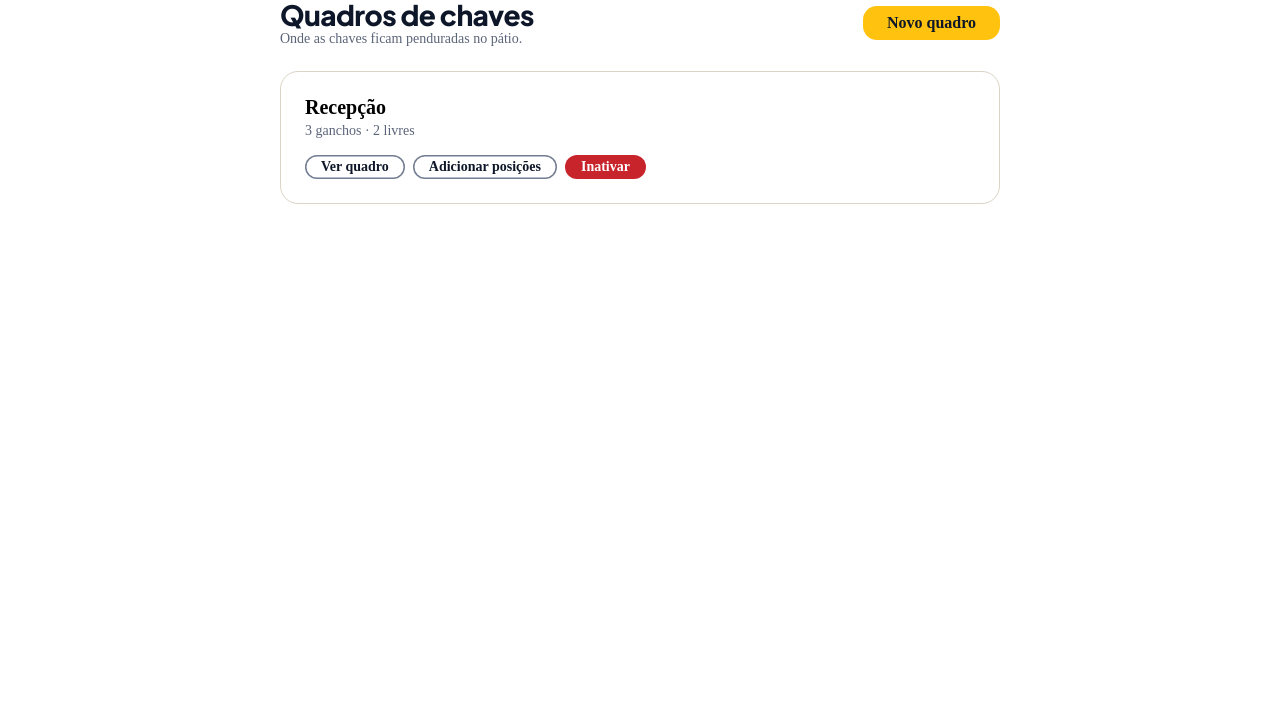
Scenario: QuadrosLista › exclui um gancho livre depois de confirmar e não deixa tocar no ocupado
Click the button "Ver quadro" at (355, 167), box [305,155,405,179]
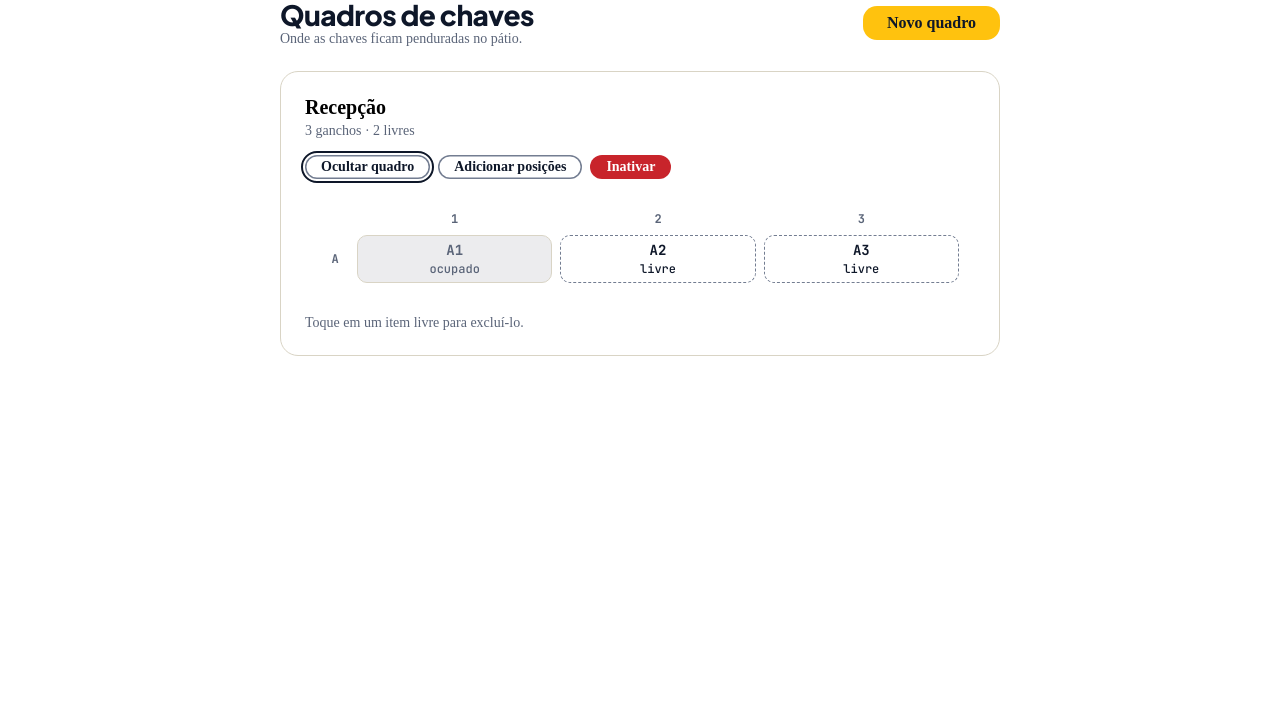
Click the button with aria-label "A3, livre" at (861, 259), box [764,235,959,283]
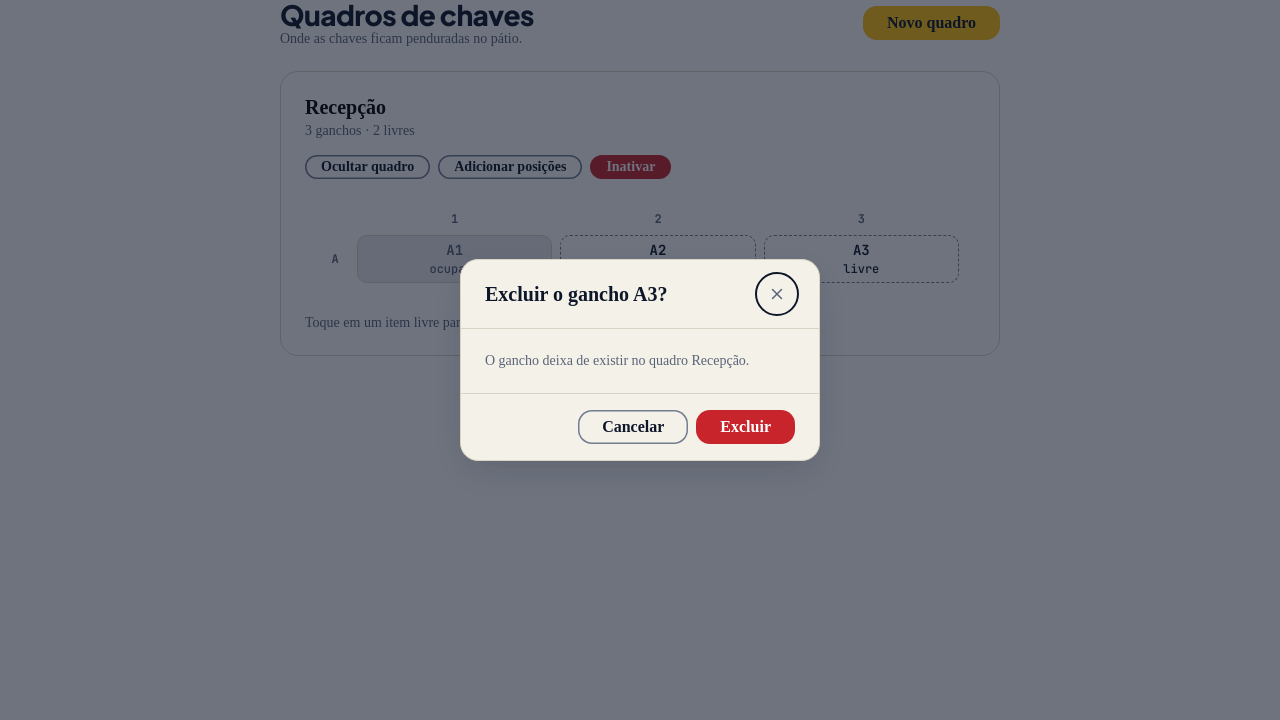
expect the heading "Excluir o gancho A3?" is shown: met, box [485,282,667,306]
Click the button "Excluir" at (746, 427), box [696,410,795,444]
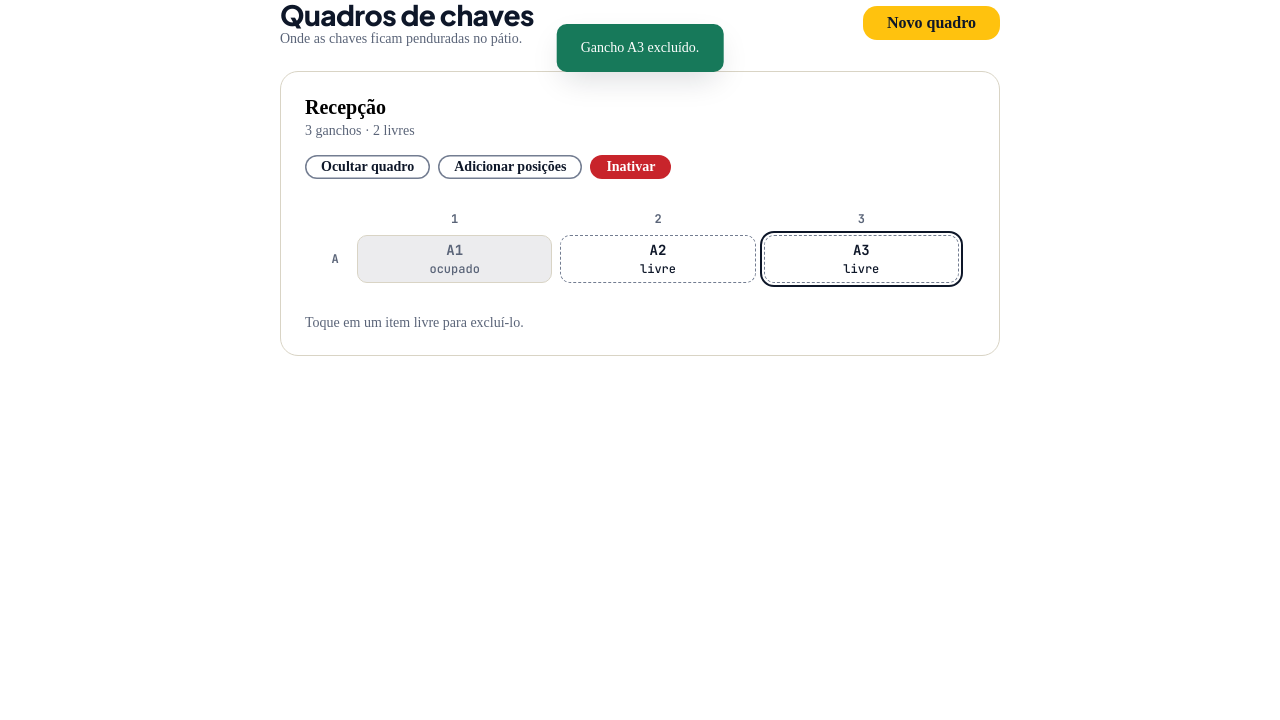
expect the text "Gancho A3 excluído." is shown: met, box [557,24,723,72]
